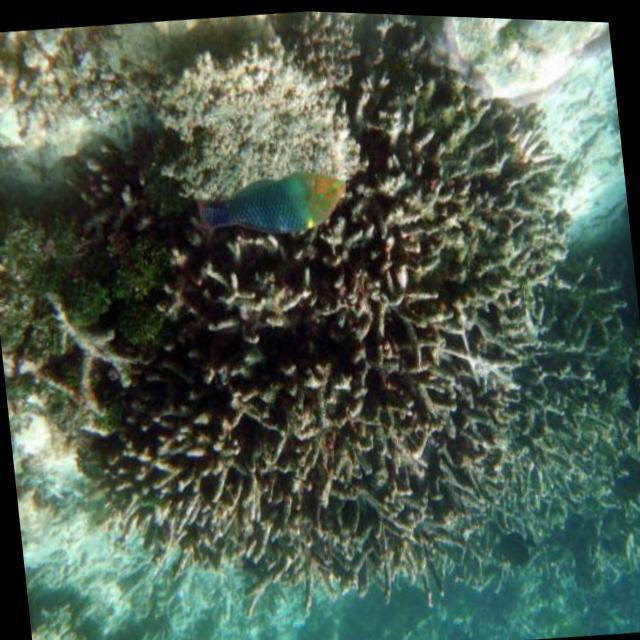Dead Coral: (20, 24, 602, 559)
